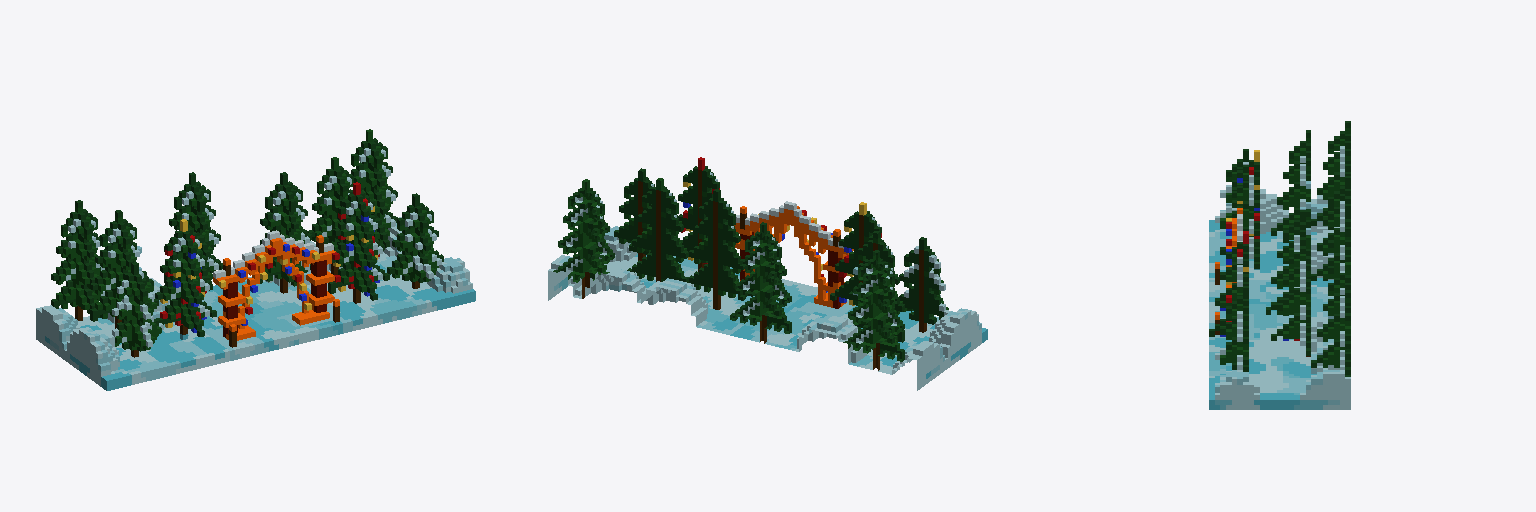
The picture shows the model from 3 angles: view 1: azimuth 30°, elevation 25°; view 2: azimuth 150°, elevation 25°; view 3: azimuth 270°, elevation 25°; orthographic projection.
Parts seen in each view (by area): view 1: Arka_Level_5:Mesh; view 2: Arka_Level_5:Mesh; view 3: Arka_Level_5:Mesh.
Part boxes in pixels (x1,y1,x2,y2): Arka_Level_5:Mesh: (36,129,475,390); Arka_Level_5:Mesh: (548,157,987,390); Arka_Level_5:Mesh: (1209,121,1350,409).
Bounding box in the file's own units: 12 × 4 × 4.
Materials: 1 (1 with a texture image).